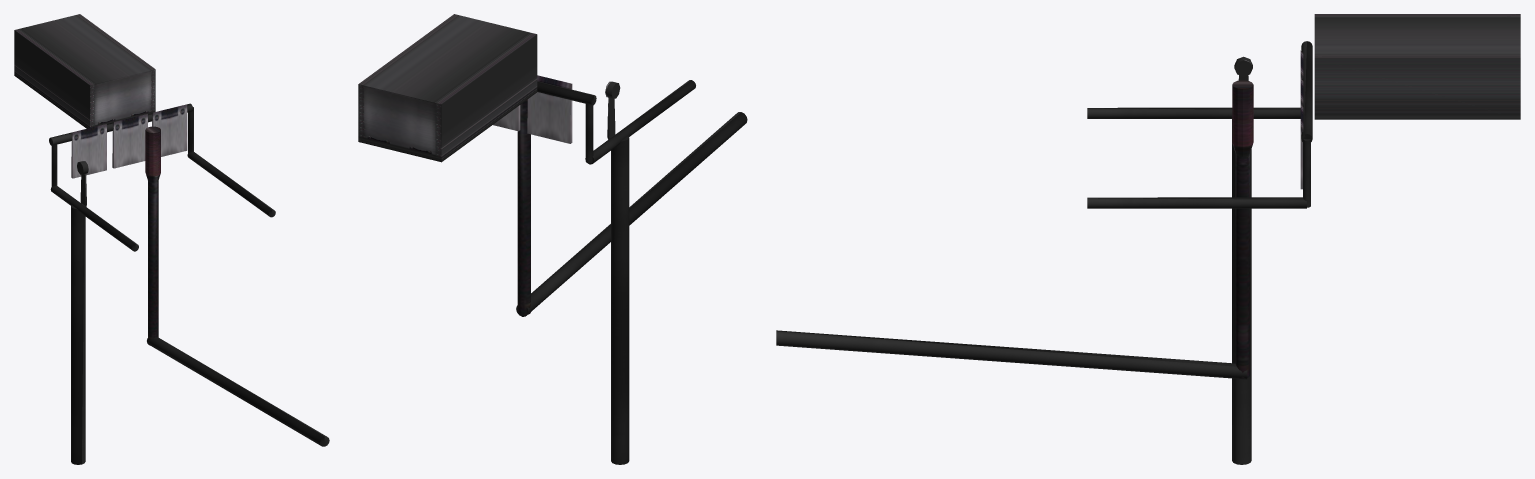
Rendered from N28_cockpit.FBX.
3 views of the same model, side by side, from view 1: azimuth 30°, elevation 25°; view 2: azimuth 150°, elevation 25°; view 3: azimuth 270°, elevation 25° (orthographic). The views are drawn at different scales.
Visible parts, largest first — view 1: Box004, Cylinder059, Cylinder051, Cylinder052, Box006, Box005, Box007, Cylinder054, Cylinder055, Cylinder050, Cylinder053; view 2: Box004, Cylinder059, Cylinder052, Cylinder051, Box005, Cylinder055, Cylinder050, Cylinder053, Cylinder057, Box006; view 3: Box004, Cylinder052, Cylinder051, Cylinder059, Cylinder054, Cylinder055, Cylinder050.
Boxes of the visible parts, x1,y1,x2,y2 form: Box004: [14, 14, 155, 128]; Cylinder059: [71, 204, 85, 464]; Cylinder051: [145, 126, 160, 345]; Cylinder052: [147, 337, 329, 446]; Box006: [112, 114, 147, 168]; Box005: [71, 124, 106, 178]; Box007: [152, 104, 187, 156]; Cylinder054: [187, 152, 275, 217]; Cylinder055: [50, 186, 138, 251]; Cylinder050: [49, 103, 192, 145]; Cylinder053: [77, 161, 88, 206]; Box004: [358, 14, 537, 162]; Cylinder059: [611, 134, 629, 464]; Cylinder052: [516, 112, 747, 316]; Cylinder051: [517, 99, 530, 315]; Box005: [527, 75, 572, 143]; Cylinder055: [585, 80, 695, 164]; Cylinder050: [537, 81, 596, 105]; Cylinder053: [605, 81, 620, 139]; Cylinder057: [585, 103, 593, 163]; Box006: [493, 105, 520, 131]; Box004: [1314, 14, 1520, 119]; Cylinder052: [776, 330, 1247, 379]; Cylinder051: [1232, 80, 1253, 378]; Cylinder059: [1232, 119, 1251, 464]; Cylinder054: [1087, 197, 1306, 208]; Cylinder055: [1087, 107, 1300, 118]; Cylinder050: [1301, 41, 1312, 141].
Size of the model in its own units: 21.99 by 49.68 by 70.91.
